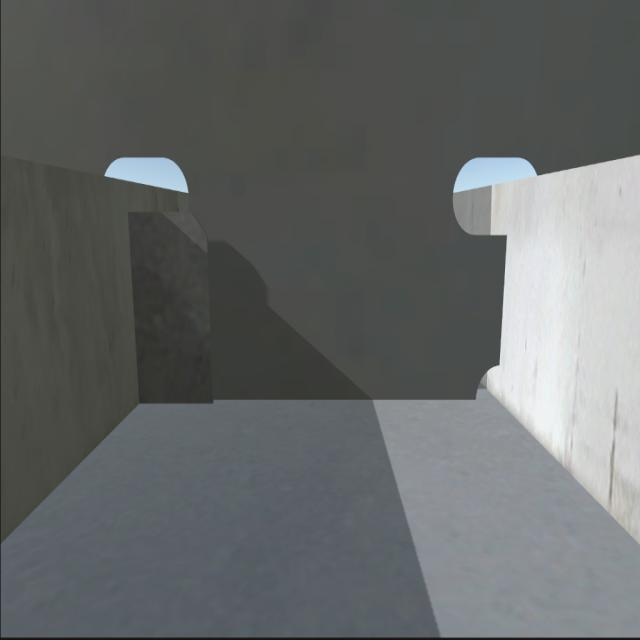fillet_hole: (475, 364, 504, 406)
fillet_yong_jeop_jang: (145, 398, 478, 406)
longi_yong_jeop_jang: (129, 215, 151, 402), (498, 237, 517, 359)
plate_CP03: (134, 205, 212, 401)
